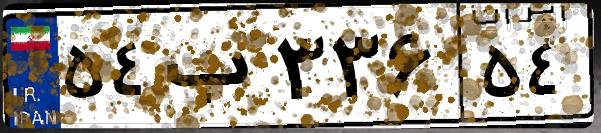3: (270, 28, 330, 110), (330, 28, 385, 110)
4: (525, 38, 570, 115), (110, 28, 158, 98)
5: (57, 26, 110, 100), (475, 38, 525, 113)
6: (385, 28, 445, 110)
ب: (158, 20, 270, 120)
